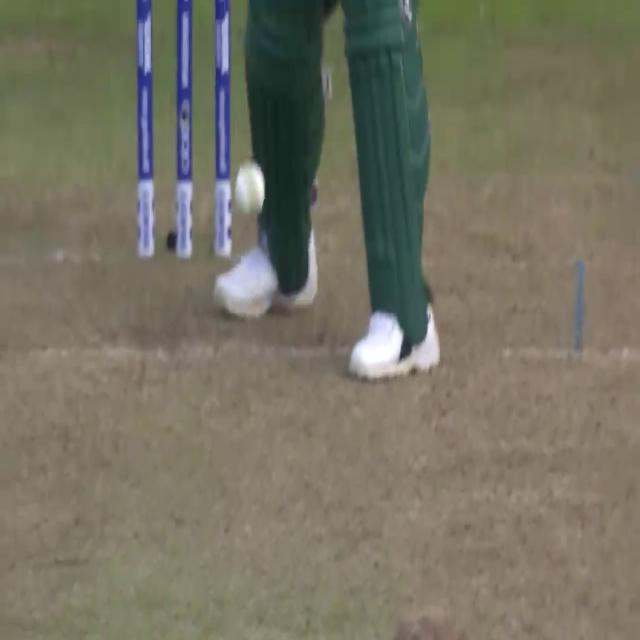ball: (232, 156, 268, 224)
